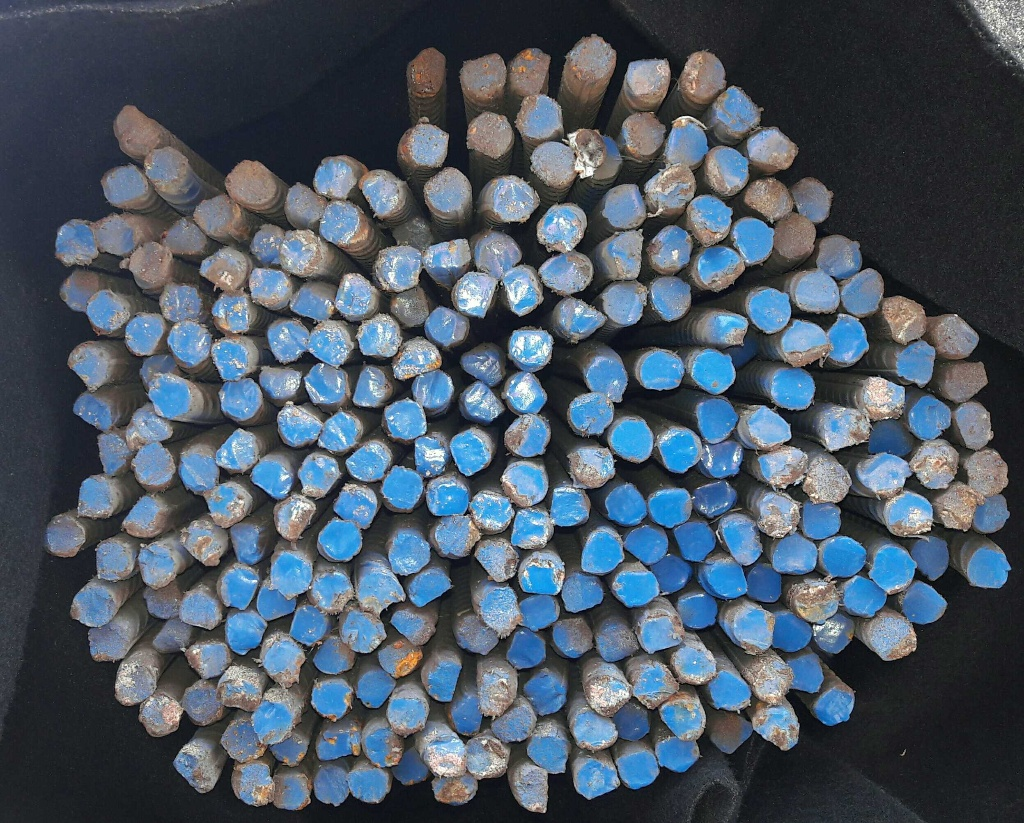dipstick: (111, 106, 158, 155), (539, 202, 585, 252), (227, 162, 279, 205), (540, 251, 593, 293), (806, 457, 852, 505), (572, 130, 621, 175), (513, 95, 565, 137), (818, 534, 867, 578), (335, 485, 384, 529), (260, 637, 303, 687), (706, 144, 748, 194), (653, 166, 694, 217), (689, 195, 729, 247), (861, 376, 907, 421), (529, 141, 575, 186), (374, 245, 421, 289), (263, 316, 307, 363), (202, 247, 249, 291), (781, 320, 829, 363), (748, 127, 796, 170), (354, 316, 402, 359), (868, 546, 912, 592), (556, 297, 603, 340), (602, 279, 644, 327), (718, 86, 760, 134), (362, 171, 403, 220), (321, 199, 362, 248), (517, 551, 562, 595), (695, 248, 740, 292), (859, 453, 906, 495), (510, 48, 551, 96), (649, 274, 692, 319), (383, 465, 425, 511), (313, 156, 359, 198), (492, 178, 539, 219), (194, 195, 241, 236), (142, 145, 189, 186), (770, 368, 813, 412), (637, 613, 681, 656), (574, 709, 617, 753), (525, 732, 568, 776), (623, 110, 667, 153), (66, 343, 109, 387), (638, 351, 683, 393), (871, 616, 916, 658), (600, 185, 645, 227), (755, 449, 806, 486), (648, 226, 689, 272), (686, 51, 727, 97), (731, 216, 771, 263), (285, 182, 325, 229), (101, 165, 148, 205), (954, 401, 993, 449), (358, 570, 406, 609), (791, 582, 840, 620), (505, 416, 548, 459), (746, 289, 789, 332), (174, 750, 217, 793), (130, 444, 173, 487), (567, 392, 611, 434), (433, 516, 477, 558), (965, 451, 1006, 496), (719, 517, 760, 562), (770, 533, 815, 574), (149, 376, 194, 417), (656, 433, 702, 473), (477, 663, 513, 714), (525, 670, 564, 717), (504, 266, 543, 313), (733, 606, 771, 654), (611, 420, 653, 463), (794, 270, 837, 312), (908, 397, 951, 439), (758, 494, 801, 536), (341, 609, 383, 652), (320, 519, 363, 561), (424, 167, 467, 209), (97, 216, 139, 259), (817, 236, 862, 276), (707, 672, 752, 712), (396, 338, 441, 378), (53, 223, 98, 263), (941, 361, 987, 400), (657, 699, 703, 738), (668, 120, 707, 166), (281, 228, 320, 274), (512, 767, 550, 814), (691, 350, 733, 392), (840, 270, 882, 312), (674, 519, 716, 561), (902, 582, 944, 624), (572, 36, 614, 78), (756, 709, 799, 750), (479, 589, 522, 630), (271, 770, 312, 813), (232, 763, 272, 807), (182, 523, 222, 567), (568, 447, 613, 486), (560, 574, 605, 613), (612, 570, 657, 609), (475, 231, 520, 270), (467, 115, 512, 154), (606, 232, 644, 278), (774, 211, 812, 257), (884, 495, 930, 533), (218, 428, 256, 474), (308, 324, 354, 362), (210, 292, 256, 330), (830, 317, 867, 364), (936, 316, 977, 358), (169, 321, 211, 362), (882, 298, 925, 338), (596, 622, 639, 662), (217, 670, 260, 710), (426, 477, 469, 517), (45, 516, 85, 559), (250, 267, 290, 310), (468, 493, 512, 532), (968, 547, 1007, 591), (467, 735, 506, 779), (458, 383, 502, 422), (306, 361, 345, 405), (586, 355, 624, 400), (460, 345, 506, 382), (217, 380, 263, 417), (751, 657, 787, 704), (475, 540, 516, 581), (278, 405, 319, 446), (337, 275, 378, 316), (127, 246, 168, 287), (548, 485, 590, 525), (581, 532, 623, 572), (673, 646, 715, 686), (180, 684, 222, 724), (426, 306, 468, 346), (87, 291, 127, 333), (694, 397, 737, 436), (772, 610, 811, 653), (551, 618, 594, 657), (587, 675, 630, 714), (320, 409, 359, 452), (935, 487, 973, 531), (128, 405, 172, 443), (462, 55, 506, 93), (432, 771, 479, 806), (506, 464, 547, 504), (825, 411, 866, 451), (633, 664, 673, 705), (218, 566, 258, 607), (712, 713, 754, 752), (456, 615, 498, 654), (383, 400, 425, 439), (178, 453, 220, 492), (62, 270, 101, 312), (700, 440, 743, 478), (895, 343, 933, 386), (429, 736, 467, 779), (448, 432, 486, 475), (456, 273, 494, 316), (751, 179, 794, 217), (389, 293, 432, 331), (603, 487, 647, 524), (515, 594, 559, 631), (390, 607, 434, 644), (300, 456, 337, 500), (71, 392, 116, 428), (797, 177, 833, 222), (745, 410, 791, 445), (646, 489, 692, 524), (844, 578, 890, 613), (159, 282, 205, 317), (651, 738, 701, 770), (627, 58, 667, 98), (509, 328, 550, 367), (136, 543, 175, 584), (575, 762, 617, 800), (614, 753, 657, 790), (115, 663, 152, 706), (309, 574, 352, 611), (275, 497, 310, 542), (82, 625, 128, 659), (291, 286, 337, 320), (506, 372, 545, 412), (379, 639, 419, 678), (167, 217, 206, 257), (910, 538, 948, 579), (389, 696, 427, 737), (366, 728, 404, 769), (675, 593, 717, 630), (348, 766, 390, 803), (95, 431, 132, 473), (347, 446, 390, 482), (910, 455, 955, 489), (651, 554, 690, 593), (313, 766, 352, 805), (787, 655, 825, 695), (225, 612, 265, 650), (410, 124, 448, 164), (211, 338, 249, 378), (705, 560, 746, 597), (494, 701, 531, 742), (412, 372, 454, 408), (409, 48, 445, 90), (179, 593, 222, 628), (690, 481, 737, 513), (424, 240, 471, 272), (316, 727, 360, 761), (615, 705, 653, 744), (506, 630, 545, 668), (390, 533, 429, 571), (271, 555, 310, 593), (123, 497, 162, 535), (511, 509, 548, 549), (223, 724, 263, 761), (137, 699, 177, 736), (75, 589, 115, 626), (95, 543, 135, 580), (78, 476, 115, 516), (126, 314, 163, 354), (251, 461, 292, 497), (869, 420, 911, 455), (816, 614, 853, 653), (205, 486, 244, 523), (314, 638, 354, 674), (416, 432, 448, 477), (259, 364, 299, 400), (702, 310, 743, 345), (227, 522, 261, 564), (801, 501, 839, 538), (746, 564, 783, 602), (296, 606, 332, 645), (251, 224, 287, 263), (186, 644, 229, 676), (429, 661, 460, 705), (389, 217, 433, 248), (625, 526, 665, 560), (973, 496, 1009, 533), (815, 689, 851, 726), (258, 586, 295, 622), (359, 671, 394, 709), (310, 678, 344, 716), (137, 355, 175, 389), (356, 365, 388, 405), (410, 574, 451, 605), (395, 751, 428, 787), (142, 587, 181, 617), (269, 736, 306, 767), (454, 698, 483, 737), (256, 706, 290, 739), (155, 624, 190, 656), (733, 327, 760, 367)
